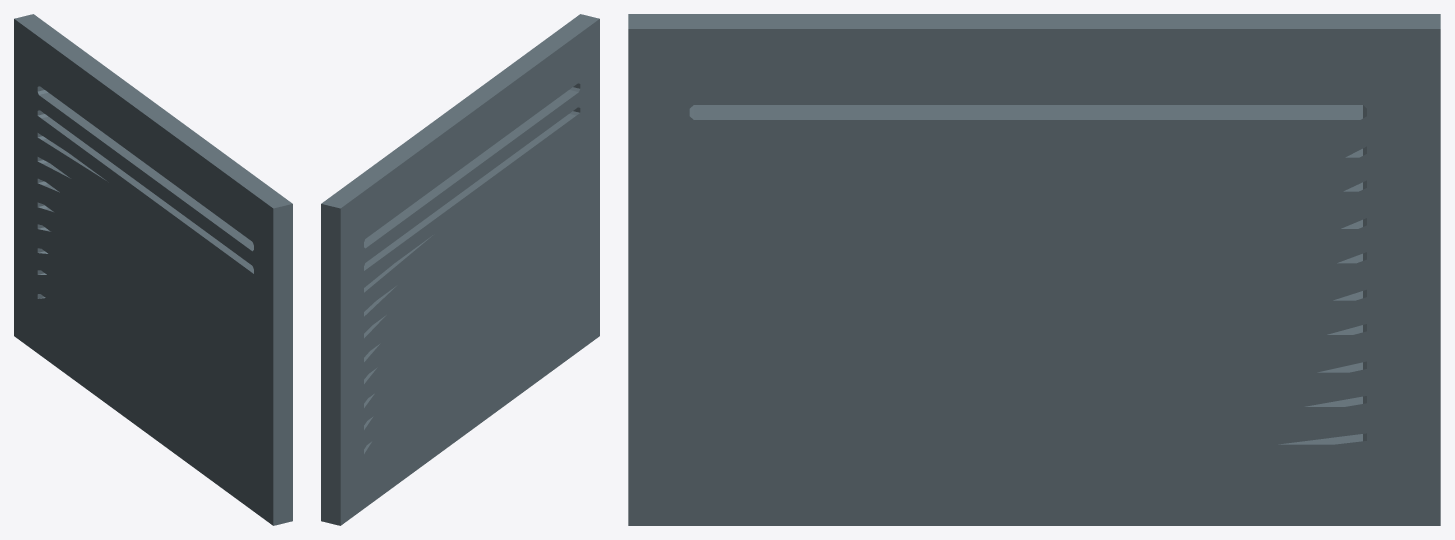
File: plaka 7.fbx
3 renders of one model, left to right at view 1: azimuth 30°, elevation 25°; view 2: azimuth 150°, elevation 25°; view 3: azimuth 270°, elevation 25°, orthographic. The views are drawn at different scales.
Parts seen in each view (by area): view 1: pCube409; view 2: pCube409; view 3: pCube409.
Part boxes in pixels (x1,y1,x2,y2): pCube409: [14, 14, 292, 525]; pCube409: [321, 14, 599, 525]; pCube409: [628, 14, 1440, 525].
Bounding box in the file's own units: 8.92 × 139 × 206.
